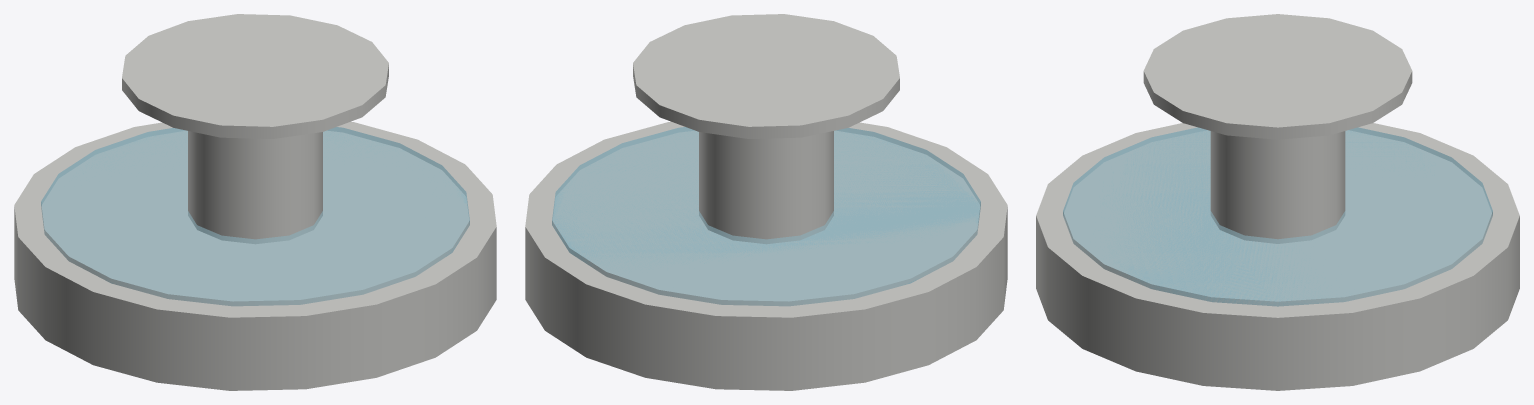
File: fountain_feature.glb
3 views of the same model, side by side, from view 1: azimuth 30°, elevation 25°; view 2: azimuth 150°, elevation 25°; view 3: azimuth 270°, elevation 25° (orthographic).
Visible parts, largest first — view 1: fountain_feature; view 2: fountain_feature; view 3: fountain_feature.
Boxes of the visible parts, x1=… form: fountain_feature: x1=14, y1=14, x2=496, y2=390; fountain_feature: x1=525, y1=14, x2=1007, y2=390; fountain_feature: x1=1036, y1=14, x2=1519, y2=390.
Size of the model in its own units: 1.8 by 0.895 by 1.8.
